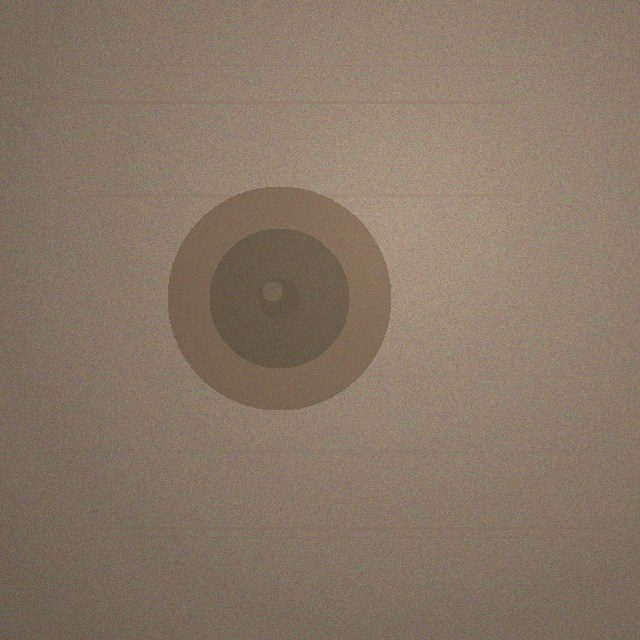good: (167, 186, 391, 410)
